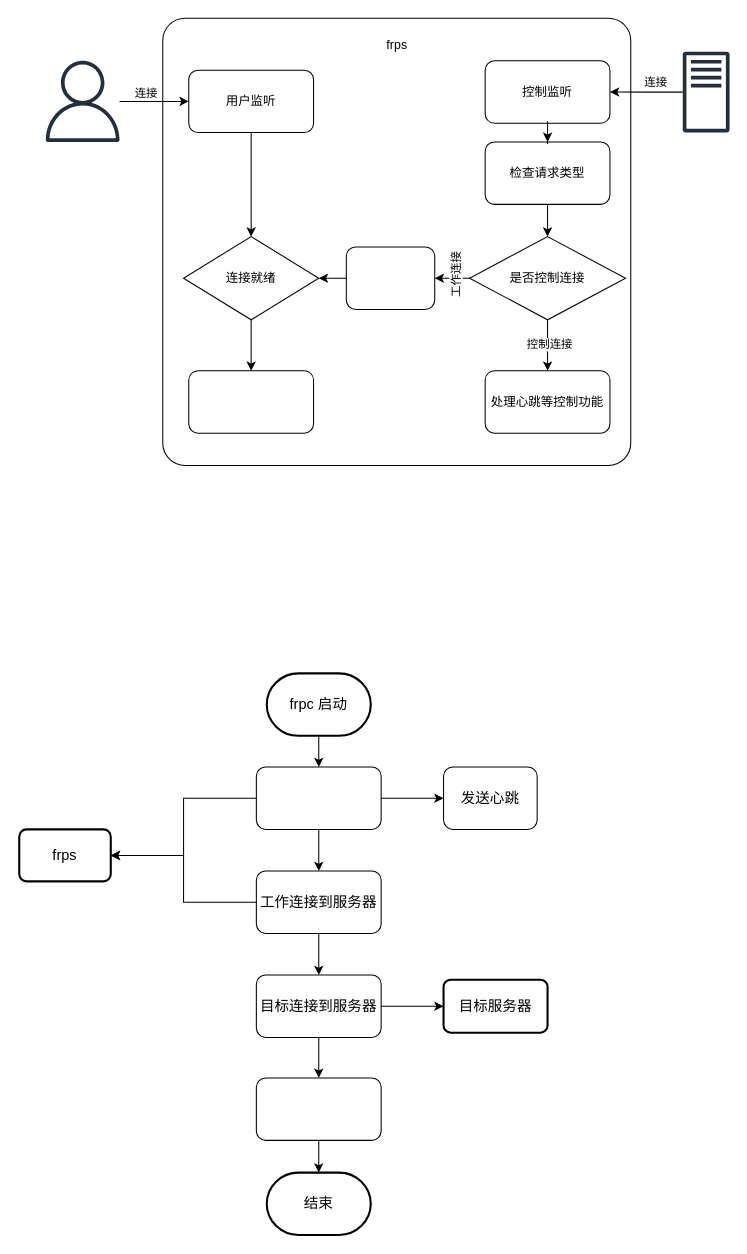
The diagram is 747 pixels wide and 1254 high, and some of its shapes have lost their labels. Here are the shapes that lost their labels. From the top down, the box of each, then its label:
(42, 60, 123, 141): User
(682, 51, 729, 132): Frpc
(345, 246, 435, 309): 发送工作连接到隧道
(188, 370, 314, 433): 组成隧道
(255, 766, 381, 829): 控制连接到服务器
(255, 1077, 381, 1140): 工作连接和目标连接组成隧洞
